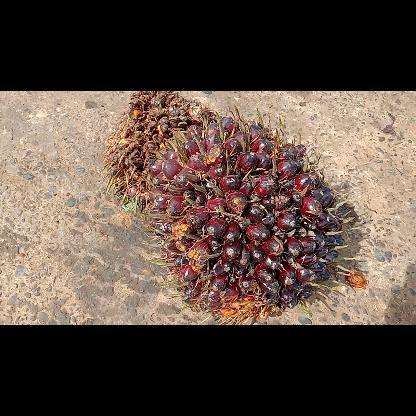Kurang masak: (144, 104, 360, 324)
TBS abnormal: (102, 90, 216, 214)
